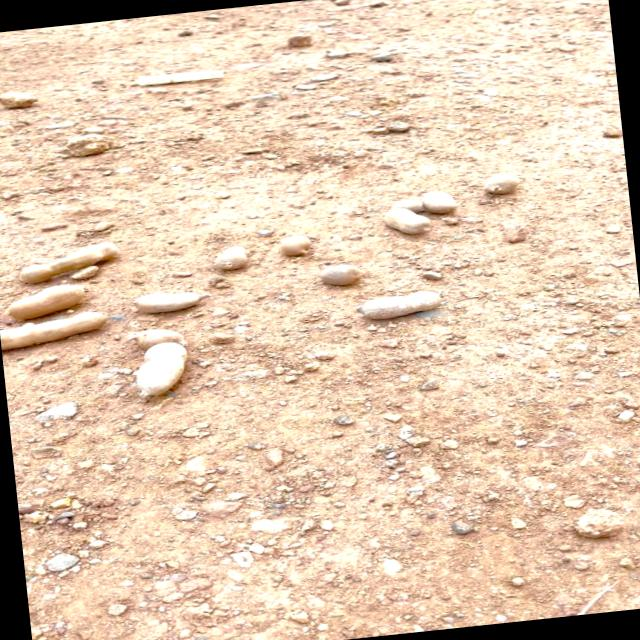tamarind: (0, 308, 113, 354), (126, 338, 199, 406), (18, 236, 121, 283), (5, 278, 96, 320), (356, 287, 446, 324), (130, 286, 228, 318), (380, 202, 436, 239), (317, 259, 371, 289), (212, 241, 256, 272), (278, 230, 318, 260), (422, 186, 458, 216), (483, 169, 523, 195)
